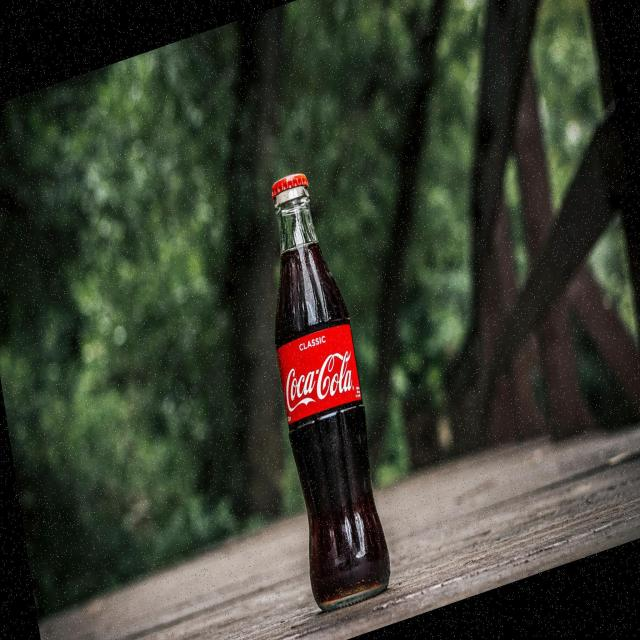coca-cola: (242, 147, 404, 622)
